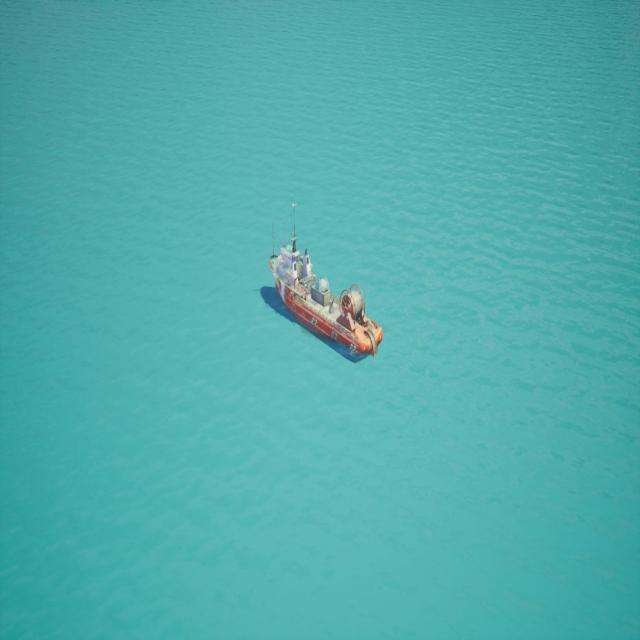tug boat: (266, 204, 379, 363)
